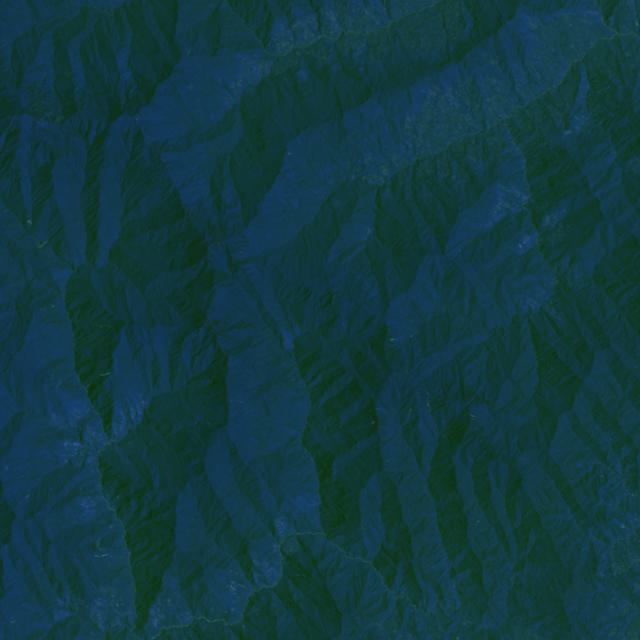landslides: (95, 553, 122, 559), (232, 408, 247, 417), (56, 378, 69, 388), (231, 581, 245, 589), (427, 391, 432, 411)
